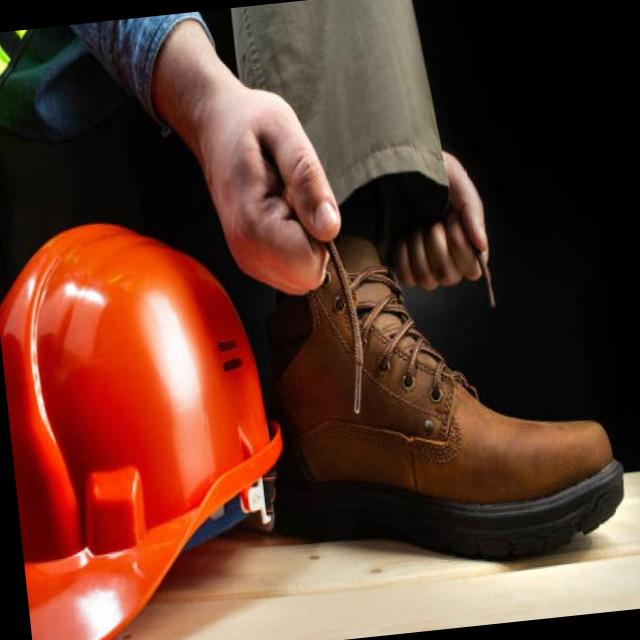Helmet: (0, 177, 306, 640), (245, 208, 637, 560)
